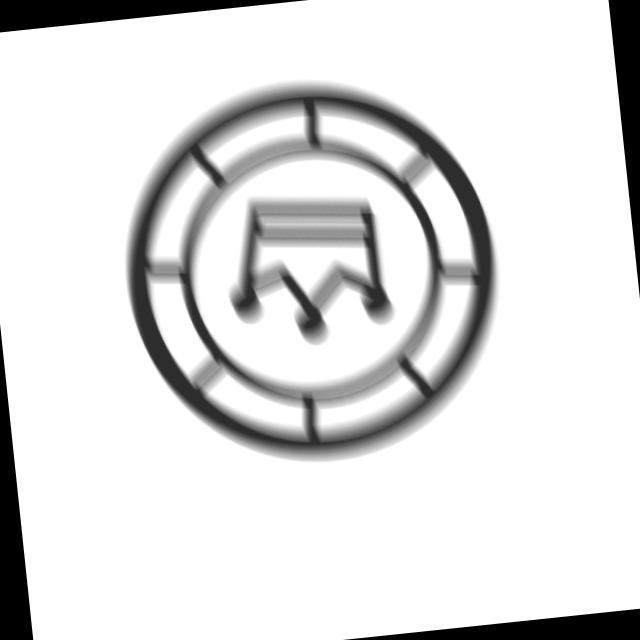coin: (99, 59, 522, 489)
